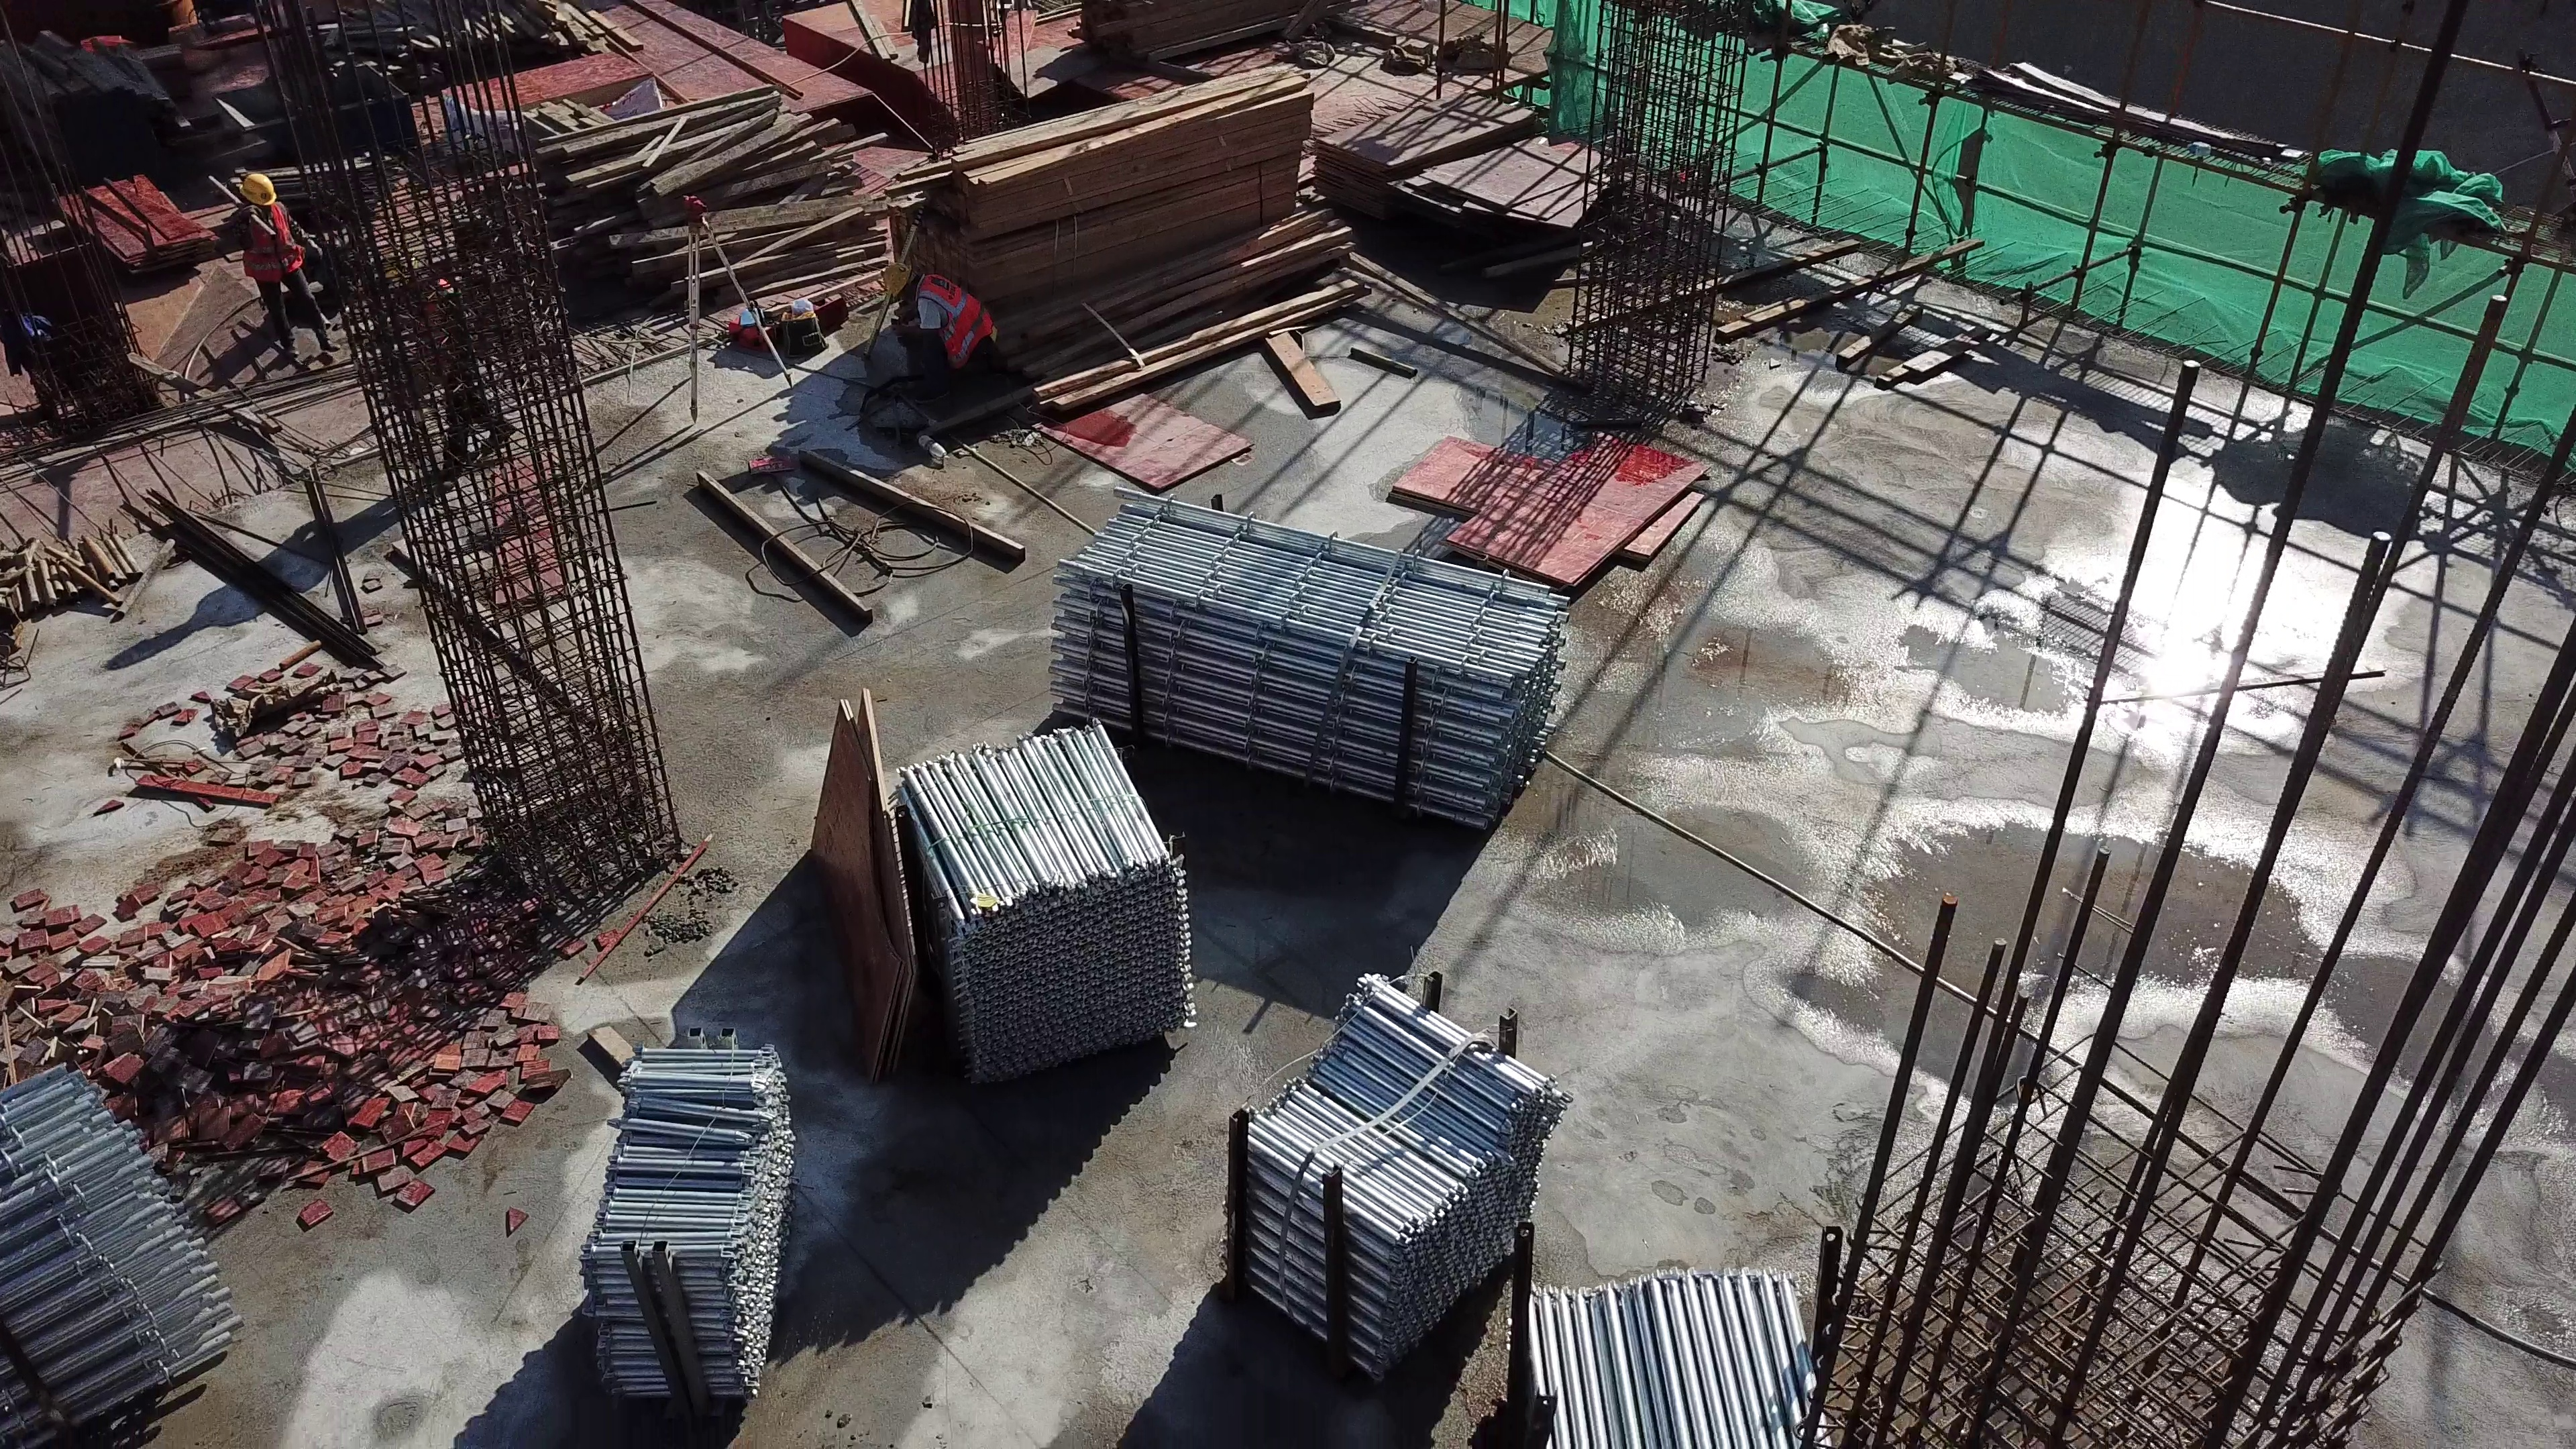board: (464, 49, 661, 150), (60, 174, 212, 291)
helmet: (239, 176, 280, 209), (884, 266, 908, 294)
hopper: (225, 67, 421, 152)
person: (413, 258, 506, 474), (232, 172, 321, 370), (873, 267, 1008, 398)
scaffold: (1063, 492, 1564, 820), (1248, 977, 1530, 1348), (898, 731, 1199, 1075), (5, 1065, 225, 1444), (583, 1039, 783, 1400), (1523, 1269, 1828, 1449)
vest: (914, 274, 996, 358), (246, 207, 305, 279)
wood: (922, 72, 1313, 294)
